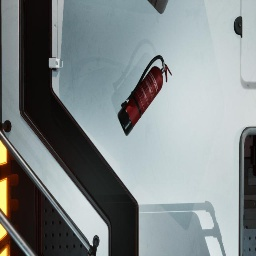FireExtinguisher ]: (117, 55, 172, 136)
